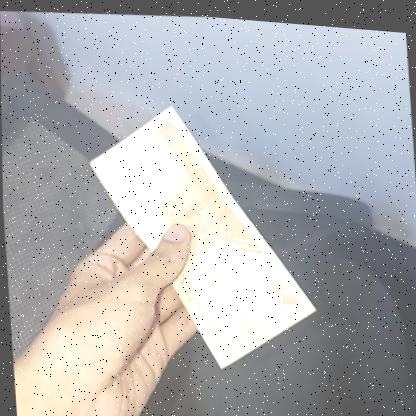twenty-back-vef: (82, 90, 319, 382)
